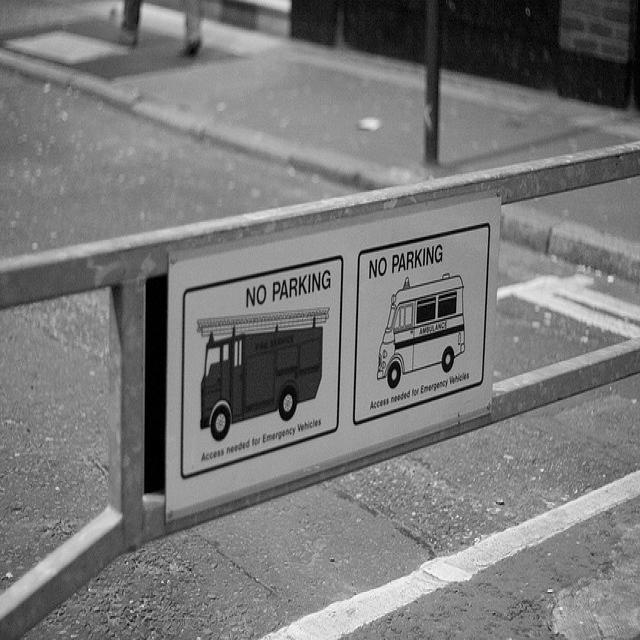truck: (196, 301, 331, 445)
